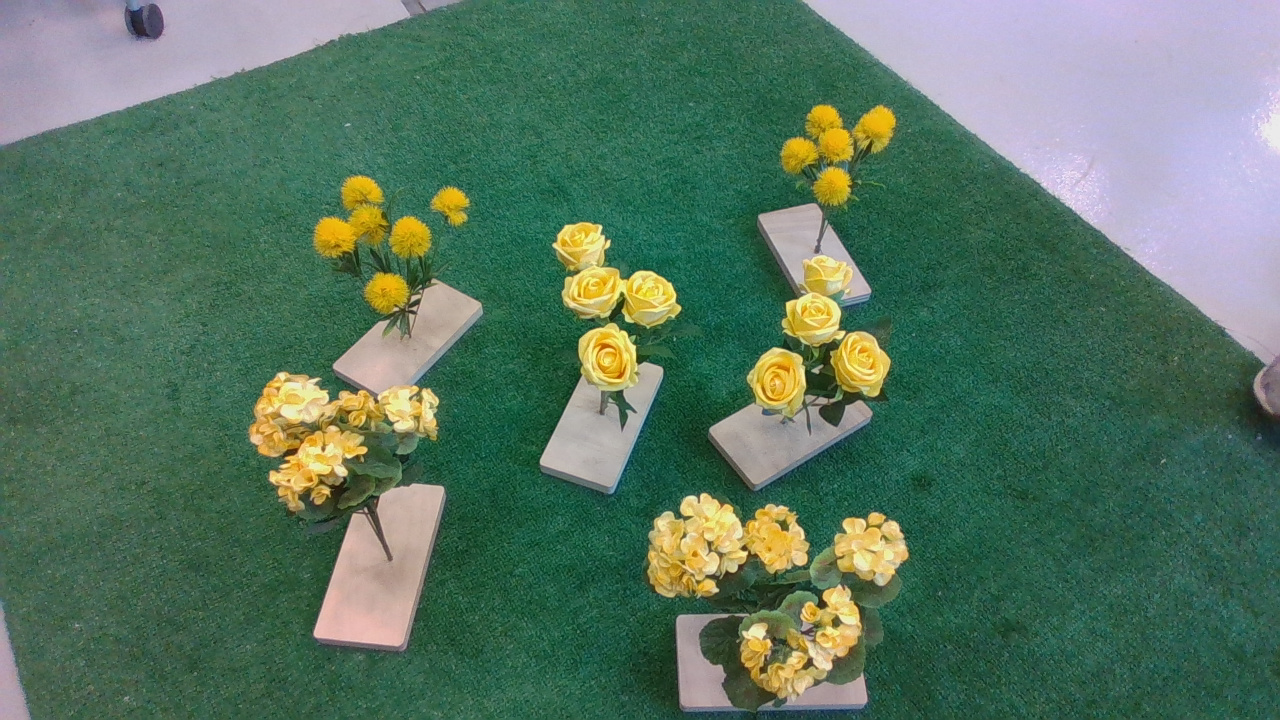dandelion: (310, 176, 491, 343), (780, 105, 913, 222)
geranium: (622, 491, 938, 720), (241, 371, 472, 539)
rose: (536, 219, 696, 435), (749, 255, 907, 436)
